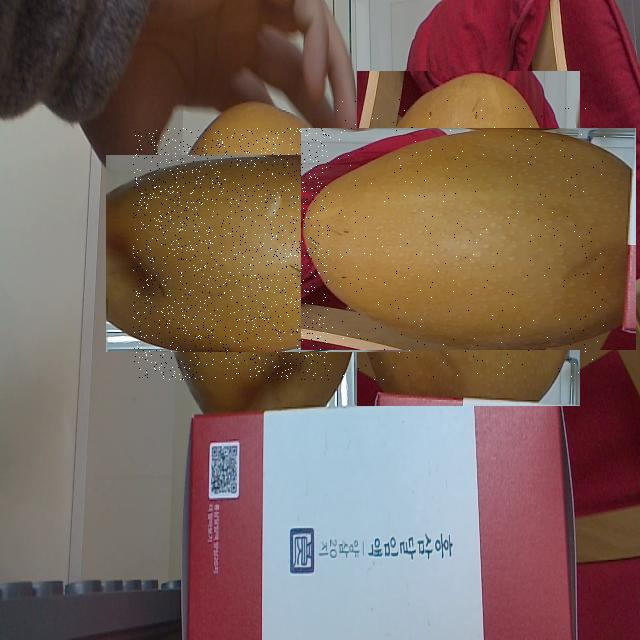pear: (329, 99, 608, 378), (133, 128, 384, 380)
